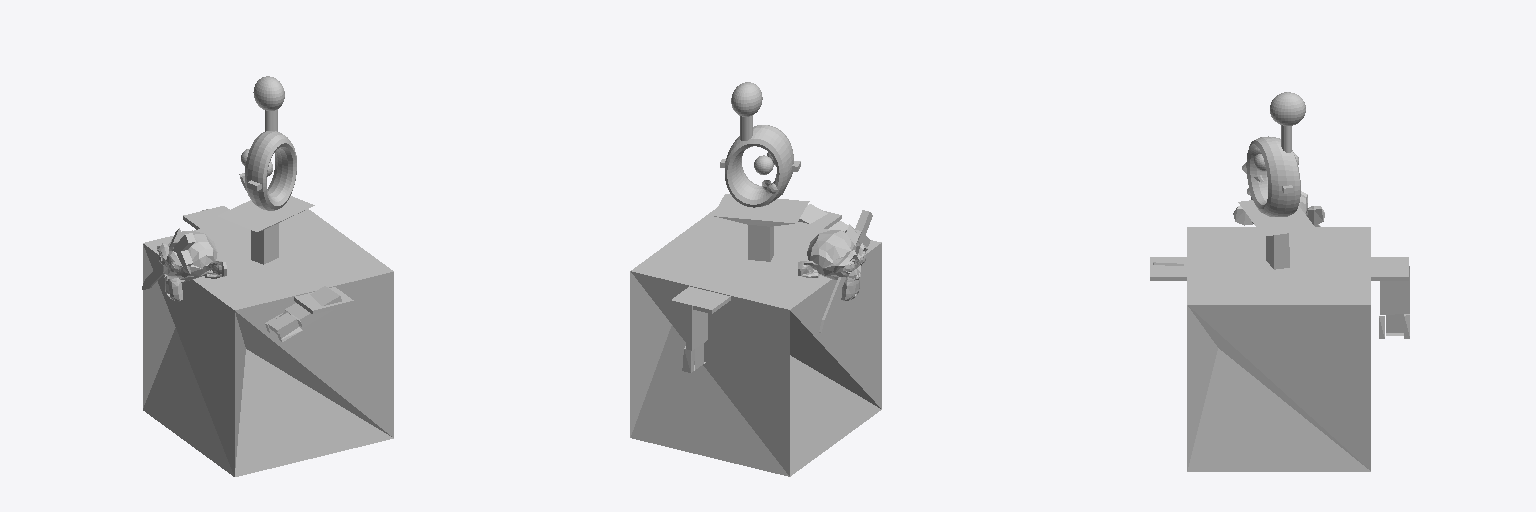
File: Robot_000022.obj
3 renders of one model, left to right at view 1: azimuth 30°, elevation 25°; view 2: azimuth 150°, elevation 25°; view 3: azimuth 270°, elevation 25°, orthographic.
Visible parts, largest first — view 1: Cube.001_Cube, Cube_Cube.001, Suzanne, Left_Hand.001_Cube.005, Cube.002_Cube.004, Sphere, Cube.003_Cube.006; view 2: Cube.001_Cube, Cube_Cube.001, Suzanne, Cube.002_Cube.004, Left_Hand_Cube.002, Cube.003_Cube.006, Sphere; view 3: Cube.001_Cube, Cube_Cube.001, Cube.002_Cube.004, Left_Hand_Cube.002, Sphere, Suzanne.
Boxes of the visible parts, <box> form: Cube.001_Cube: <box>143,209,393,476</box>; Cube_Cube.001: <box>218,131,314,264</box>; Suzanne: <box>157,230,226,301</box>; Left_Hand.001_Cube.005: <box>265,286,341,341</box>; Cube.002_Cube.004: <box>183,206,353,313</box>; Sphere: <box>253,76,284,110</box>; Cube.003_Cube.006: <box>142,228,195,289</box>; Cube.001_Cube: <box>630,207,881,476</box>; Cube_Cube.001: <box>713,125,809,261</box>; Suzanne: <box>798,230,867,300</box>; Cube.002_Cube.004: <box>671,210,841,313</box>; Left_Hand_Cube.002: <box>682,305,707,372</box>; Cube.003_Cube.006: <box>819,210,872,332</box>; Sphere: <box>731,82,762,116</box>; Cube.001_Cube: <box>1187,227,1370,471</box>; Cube_Cube.001: <box>1238,136,1315,269</box>; Cube.002_Cube.004: <box>1150,257,1408,280</box>; Left_Hand_Cube.002: <box>1379,266,1409,338</box>; Sphere: <box>1270,92,1305,125</box>; Suzanne: <box>1233,191,1324,225</box>.
Bounding box in the file's own units: 2.3 × 4.1 × 2.83.